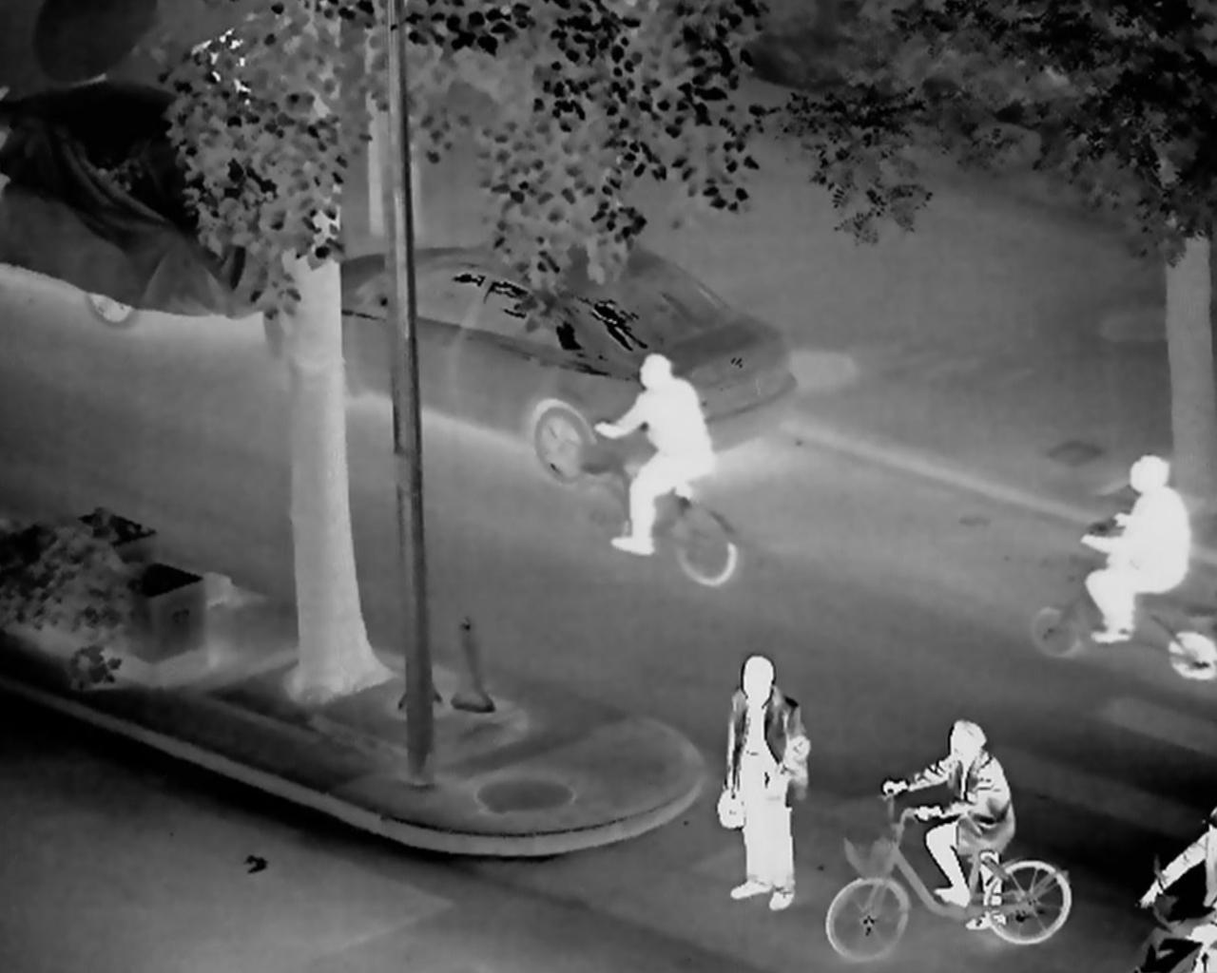person: (879, 720, 1015, 932), (595, 354, 715, 557), (721, 652, 808, 906), (1081, 457, 1189, 649), (1141, 809, 1217, 957)
